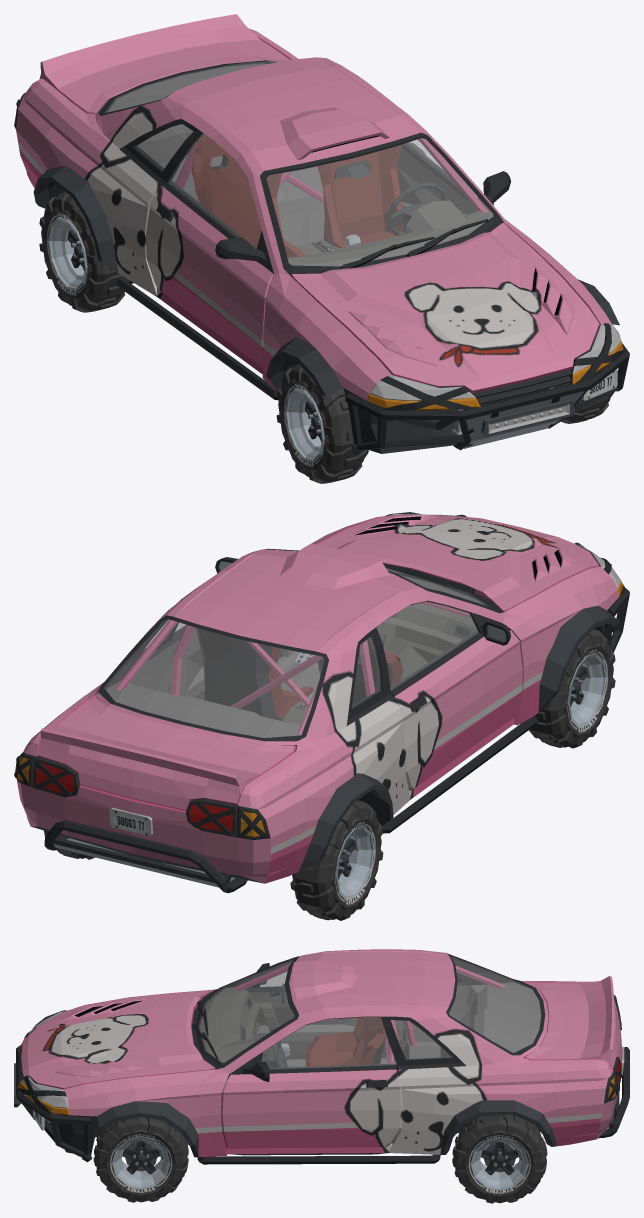
Rendered from SK_Veh_Preset_Sports_03.fbx.
The picture shows the model from 3 angles, top to bottom: view 1: azimuth 30°, elevation 25°; view 2: azimuth 150°, elevation 25°; view 3: azimuth 270°, elevation 25°; orthographic projection. The views are drawn at different scales.
Parts seen in each view (by area): view 1: SK_Veh_Preset_Sports_03, SK_Veh_Sports_03_Bonnet_03, SK_Veh_Sports_03_Glass, SK_Veh_Sports_03_Door_R, SK_Veh_Sports_03_Front_Bumper_03, SK_Veh_Sports_03_Wheel_39, SK_Veh_Sports_03_Wheel_40, SK_Veh_Sports_03_Seat_07, SK_Veh_Sports_03_Spoiler_03, SK_Veh_Sports_03_Boot_01, SK_Veh_Sports_03_Door_R_Glass, SK_Veh_Sports_03_Fenders_03 (+8 smaller); view 2: SK_Veh_Preset_Sports_03, SK_Veh_Sports_03_Glass, SK_Veh_Sports_03_Bonnet_03, SK_Veh_Sports_03_Door_R, SK_Veh_Sports_03_Boot_01, SK_Veh_Sports_03_Wheel_40, SK_Veh_Sports_03_Wheel_39, SK_Veh_Sports_03_Fenders_03, SK_Veh_Sports_03_Seat_07, SK_Veh_Sports_03_Spoiler_03, SK_Veh_Sports_03_Door_R_Glass, SK_Veh_Sports_03_Rear_Bumper_03 (+8 smaller); view 3: SK_Veh_Preset_Sports_03, SK_Veh_Sports_03_Door_L, SK_Veh_Sports_03_Bonnet_03, SK_Veh_Sports_03_Glass, SK_Veh_Sports_03_Wheel_41, SK_Veh_Sports_03_Wheel_42, SK_Veh_Sports_03_Door_L_Glass, SK_Veh_Sports_03_Fenders_03, SK_Veh_Sports_03_Boot_01, SK_Veh_Sports_03_Door_R, SK_Veh_Sports_03_Spoiler_03, SK_Veh_Sports_03_Side_Skirts_03 (+7 smaller).
Boxes of the visible parts, bbox=[...] form: SK_Veh_Preset_Sports_03: bbox=[15, 28, 623, 453]; SK_Veh_Sports_03_Bonnet_03: bbox=[291, 223, 599, 393]; SK_Veh_Sports_03_Glass: bbox=[105, 60, 493, 266]; SK_Veh_Sports_03_Door_R: bbox=[146, 181, 273, 367]; SK_Veh_Sports_03_Front_Bumper_03: bbox=[345, 343, 629, 454]; SK_Veh_Sports_03_Wheel_39: bbox=[276, 364, 368, 483]; SK_Veh_Sports_03_Wheel_40: bbox=[39, 191, 125, 312]; SK_Veh_Sports_03_Seat_07: bbox=[317, 145, 403, 248]; SK_Veh_Sports_03_Spoiler_03: bbox=[39, 14, 259, 88]; SK_Veh_Sports_03_Boot_01: bbox=[42, 39, 289, 113]; SK_Veh_Sports_03_Door_R_Glass: bbox=[168, 133, 261, 248]; SK_Veh_Sports_03_Fenders_03: bbox=[33, 166, 619, 396]; SK_Veh_Preset_Sports_03: bbox=[15, 514, 623, 883]; SK_Veh_Sports_03_Glass: bbox=[104, 568, 488, 737]; SK_Veh_Sports_03_Bonnet_03: bbox=[317, 514, 599, 611]; SK_Veh_Sports_03_Door_R: bbox=[390, 612, 522, 790]; SK_Veh_Sports_03_Boot_01: bbox=[38, 697, 296, 810]; SK_Veh_Sports_03_Wheel_40: bbox=[290, 800, 383, 920]; SK_Veh_Sports_03_Wheel_39: bbox=[528, 629, 615, 748]; SK_Veh_Sports_03_Fenders_03: bbox=[299, 605, 619, 871]; SK_Veh_Sports_03_Seat_07: bbox=[196, 627, 313, 721]; SK_Veh_Sports_03_Spoiler_03: bbox=[39, 724, 259, 793]; SK_Veh_Sports_03_Door_R_Glass: bbox=[376, 601, 478, 690]; SK_Veh_Sports_03_Rear_Bumper_03: bbox=[44, 820, 247, 893]; SK_Veh_Preset_Sports_03: bbox=[18, 949, 622, 1156]; SK_Veh_Sports_03_Door_L: bbox=[221, 1052, 402, 1148]; SK_Veh_Sports_03_Bonnet_03: bbox=[21, 989, 215, 1089]; SK_Veh_Sports_03_Glass: bbox=[199, 956, 540, 1062]; SK_Veh_Sports_03_Wheel_41: bbox=[452, 1115, 547, 1203]; SK_Veh_Sports_03_Wheel_42: bbox=[93, 1117, 188, 1202]; SK_Veh_Sports_03_Door_L_Glass: bbox=[261, 1017, 396, 1069]; SK_Veh_Sports_03_Fenders_03: bbox=[97, 1100, 556, 1157]; SK_Veh_Sports_03_Boot_01: bbox=[524, 982, 621, 1069]; SK_Veh_Sports_03_Door_R: bbox=[245, 963, 403, 1057]; SK_Veh_Sports_03_Spoiler_03: bbox=[579, 976, 615, 1062]; SK_Veh_Sports_03_Side_Skirts_03: bbox=[197, 1154, 440, 1164].
Bounding box in the file's own units: 213 × 160 × 494.
